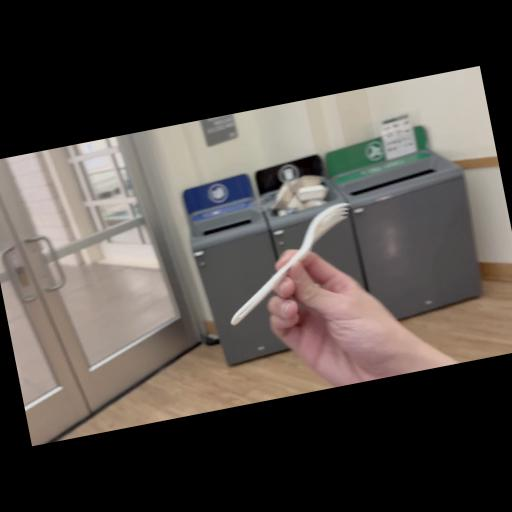utensil: (208, 198, 368, 332)
